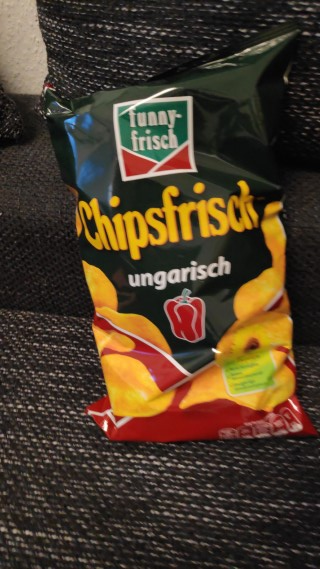chipsfrisch: (40, 18, 320, 445)
